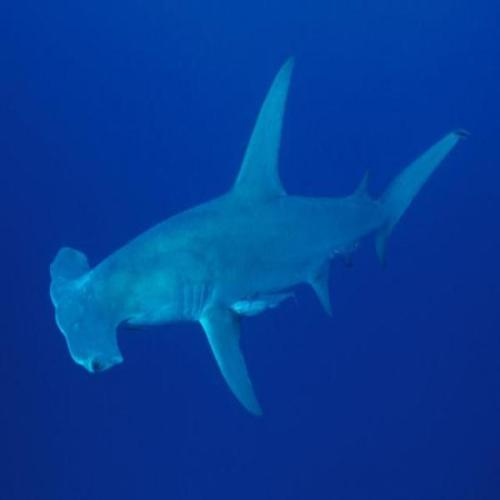shark-endangered: (48, 53, 470, 418)
